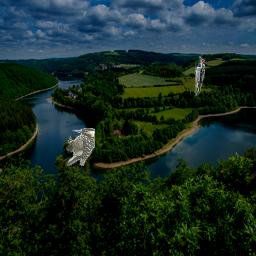Woodpecker: (65, 128, 95, 166), (195, 56, 205, 96)
